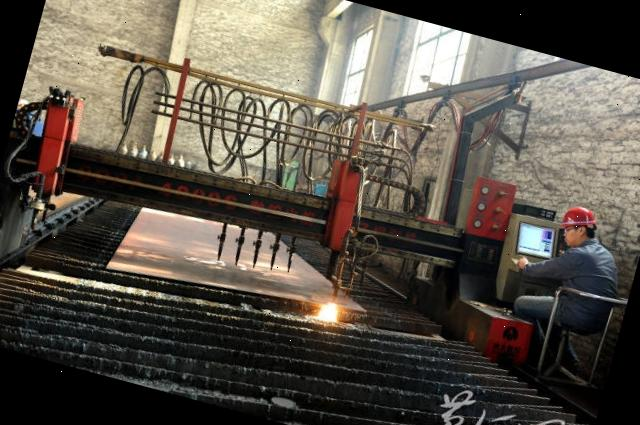helmet: (561, 202, 601, 234)
wear: (550, 240, 622, 326)
